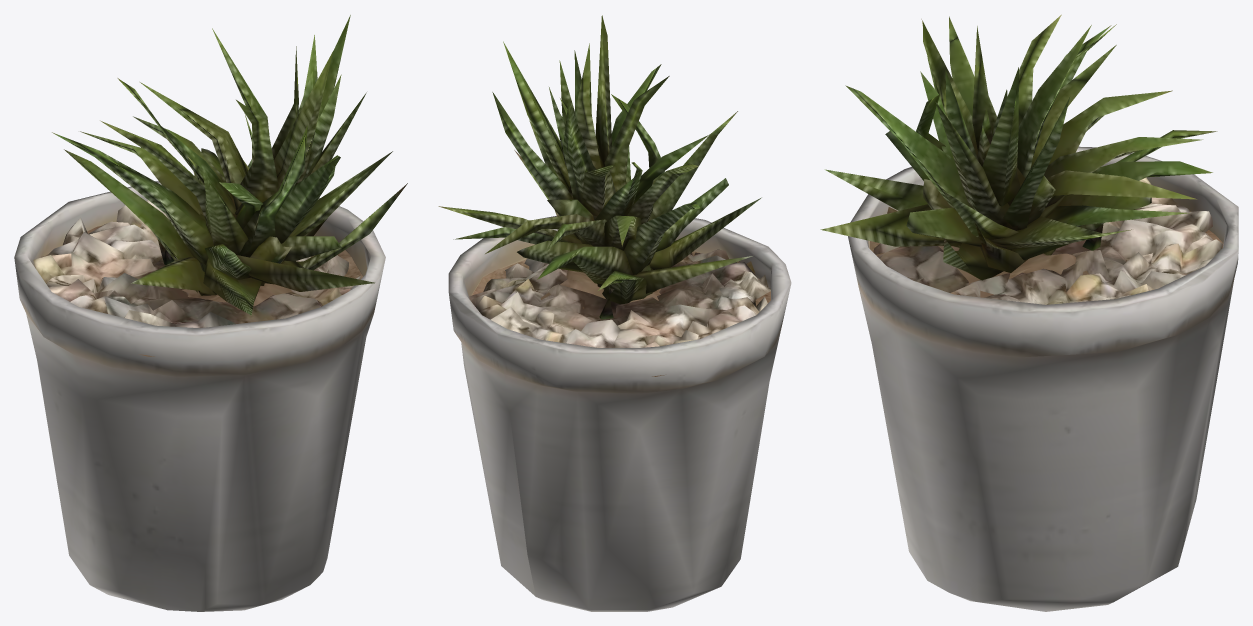
The model's file is potted_plant_04.glb.
3 renders of one model, left to right at view 1: azimuth 30°, elevation 25°; view 2: azimuth 150°, elevation 25°; view 3: azimuth 270°, elevation 25°, orthographic. The views are drawn at different scales.
Visible parts, largest first — view 1: potted_plant_04_ground; view 2: potted_plant_04_ground; view 3: potted_plant_04_ground.
Boxes of the visible parts, x1,y1,x2,y2 form: potted_plant_04_ground: (14,15,407,611); potted_plant_04_ground: (438,15,791,611); potted_plant_04_ground: (820,14,1238,611).
Size of the model in its own units: 0.1664 by 0.2671 by 0.175.
Materials: 1 (1 with a texture image).
